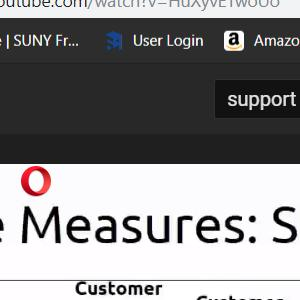opera: (21, 165, 51, 196)
